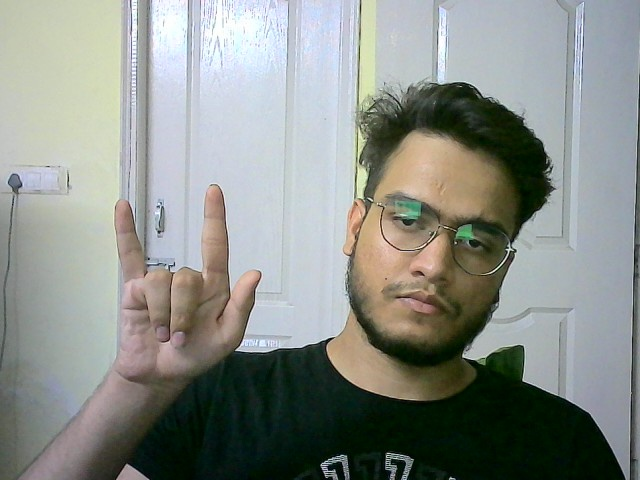I Love You: (97, 179, 266, 386)
